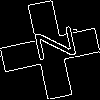Z: (25, 25, 76, 65)
